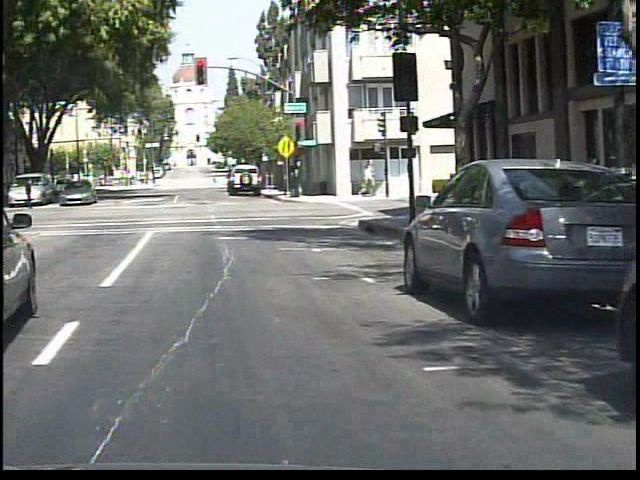person: (21, 173, 35, 213), (208, 172, 222, 189), (3, 175, 4, 212)
